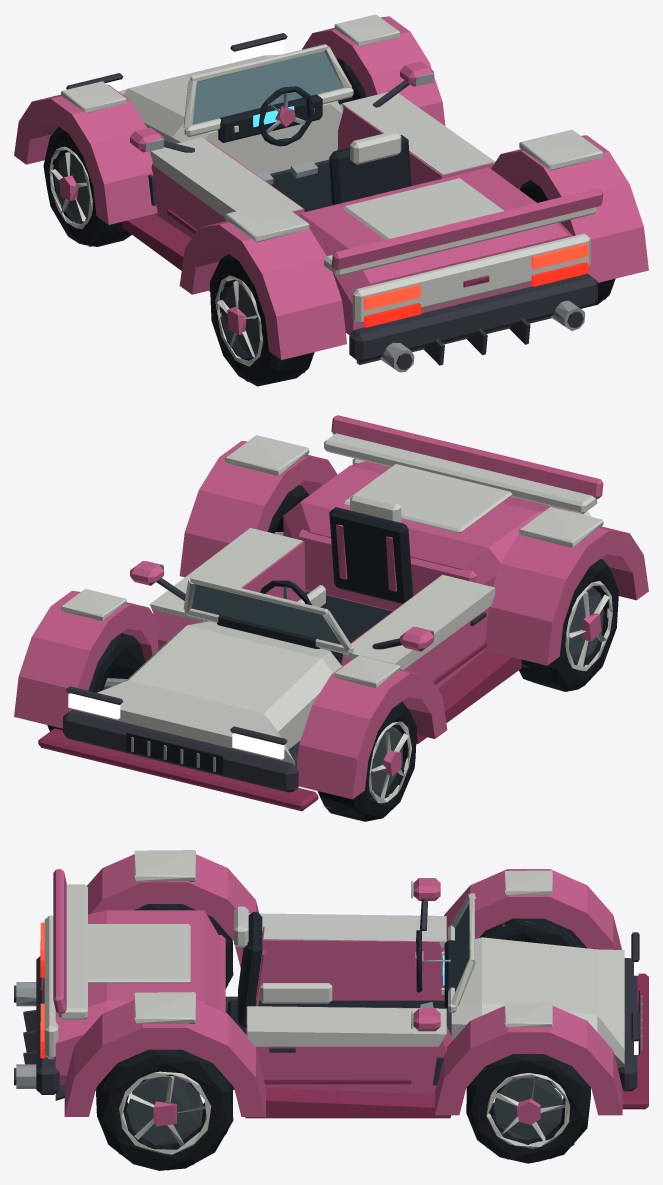
File: slide_lod1.glb
3 views of the same model, one above another, from view 1: azimuth 30°, elevation 25°; view 2: azimuth 150°, elevation 25°; view 3: azimuth 270°, elevation 25° (orthographic).
Parts seen in each view (by area): view 1: body_mesh, wheel_rl, wheel_fl, light_tail_mesh, steering_wheel, light_brake_mesh, light_head_mesh, wheel_rr; view 2: body_mesh, wheel_rl, wheel_fl, wheel_fr, light_head_mesh, wheel_rr; view 3: body_mesh, wheel_rr, wheel_fr, wheel_fl, wheel_rl.
Boxes of the visible parts, left/top/right/bottom form: body_mesh: left=14, top=14, right=648, bottom=372; wheel_rl: left=210, top=254, right=314, bottom=386; wheel_fl: left=43, top=127, right=131, bottom=246; light_tail_mesh: left=364, top=243, right=588, bottom=310; steering_wheel: left=258, top=86, right=313, bottom=146; light_brake_mesh: left=363, top=262, right=588, bottom=327; light_head_mesh: left=105, top=40, right=284, bottom=91; wheel_rr: left=519, top=180, right=615, bottom=305; body_mesh: left=14, top=415, right=648, bottom=811; wheel_rl: left=519, top=559, right=618, bottom=691; wheel_fl: left=317, top=701, right=416, bottom=821; wheel_fr: left=47, top=633, right=145, bottom=731; light_head_mesh: left=68, top=693, right=284, bottom=759; wheel_rr: left=267, top=485, right=308, bottom=533; body_mesh: left=14, top=850, right=648, bottom=1118; wheel_rr: left=96, top=1049, right=233, bottom=1170; wheel_fr: left=466, top=1054, right=590, bottom=1163; wheel_fl: left=479, top=918, right=586, bottom=948; wheel_rl: left=134, top=904, right=233, bottom=988.
Size of the model in its own units: 2.15 by 0.98 by 3.25.
